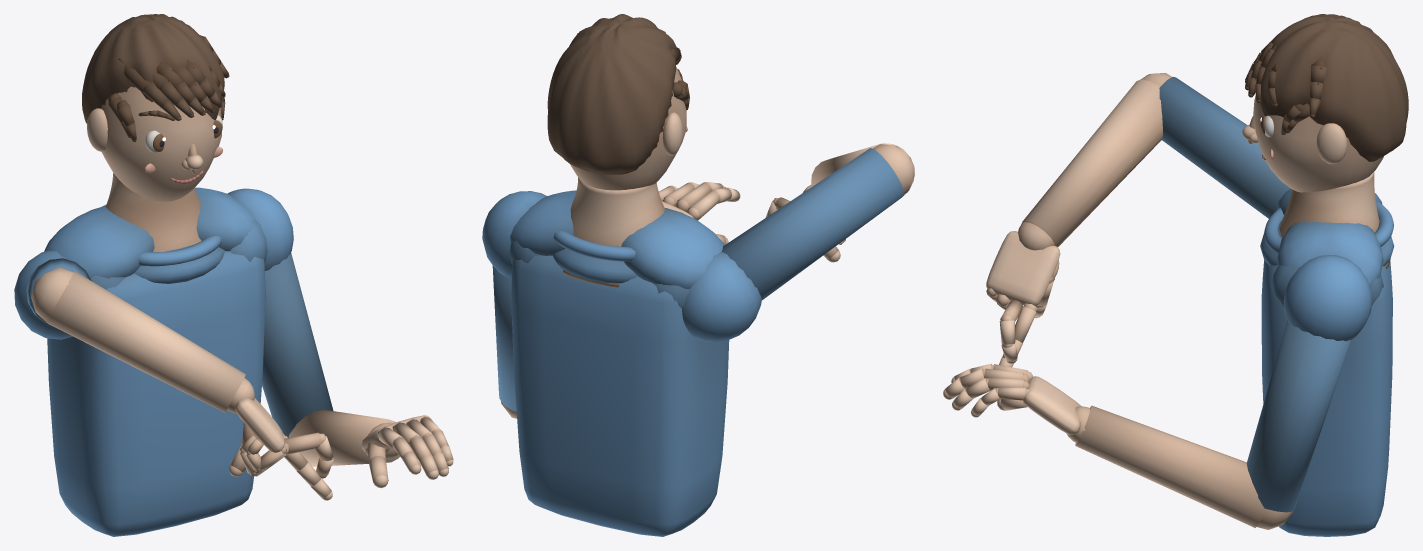
The picture shows the model from 3 angles, left to right: view 1: azimuth 30°, elevation 25°; view 2: azimuth 150°, elevation 25°; view 3: azimuth 270°, elevation 25°; orthographic projection.
Visible parts, largest first — view 1: LSC_Body; view 2: LSC_Body; view 3: LSC_Body.
Part boxes in pixels (box(x1,y1,x2,y2)): LSC_Body: box(14, 14, 453, 536); LSC_Body: box(482, 14, 914, 536); LSC_Body: box(943, 14, 1408, 536).
Bounding box in the file's own units: 0.5327 × 0.713 × 0.6104.
